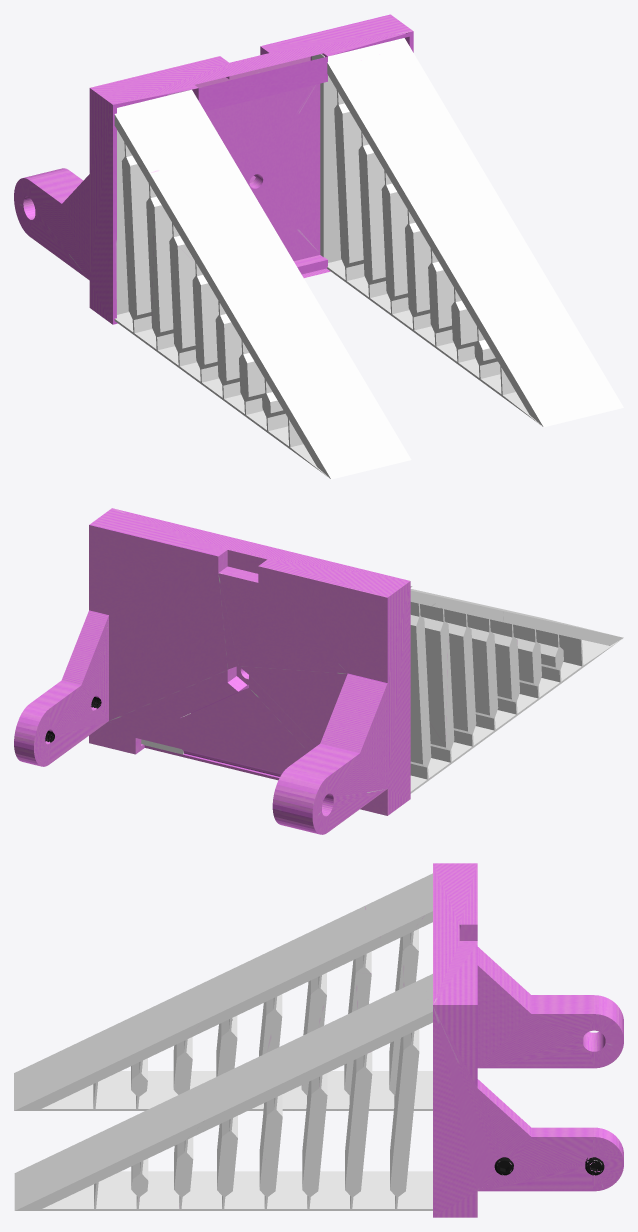
Rendered from gripper_right.dae.
3 views of the same model, one above another, from view 1: azimuth 30°, elevation 25°; view 2: azimuth 150°, elevation 25°; view 3: azimuth 270°, elevation 25° (orthographic). The views are drawn at different scales.
Visible parts, largest first — view 1: tmp_export_gripper_right; view 2: tmp_export_gripper_right; view 3: tmp_export_gripper_right.
Boxes of the visible parts, x1,y1,x2,y2 form: tmp_export_gripper_right: (14, 14, 623, 479); tmp_export_gripper_right: (14, 508, 623, 834); tmp_export_gripper_right: (14, 863, 623, 1217).
Bounding box in the file's own units: 0.077 × 0.1363 × 0.0524.
Materials: 1 (1 with a texture image).
